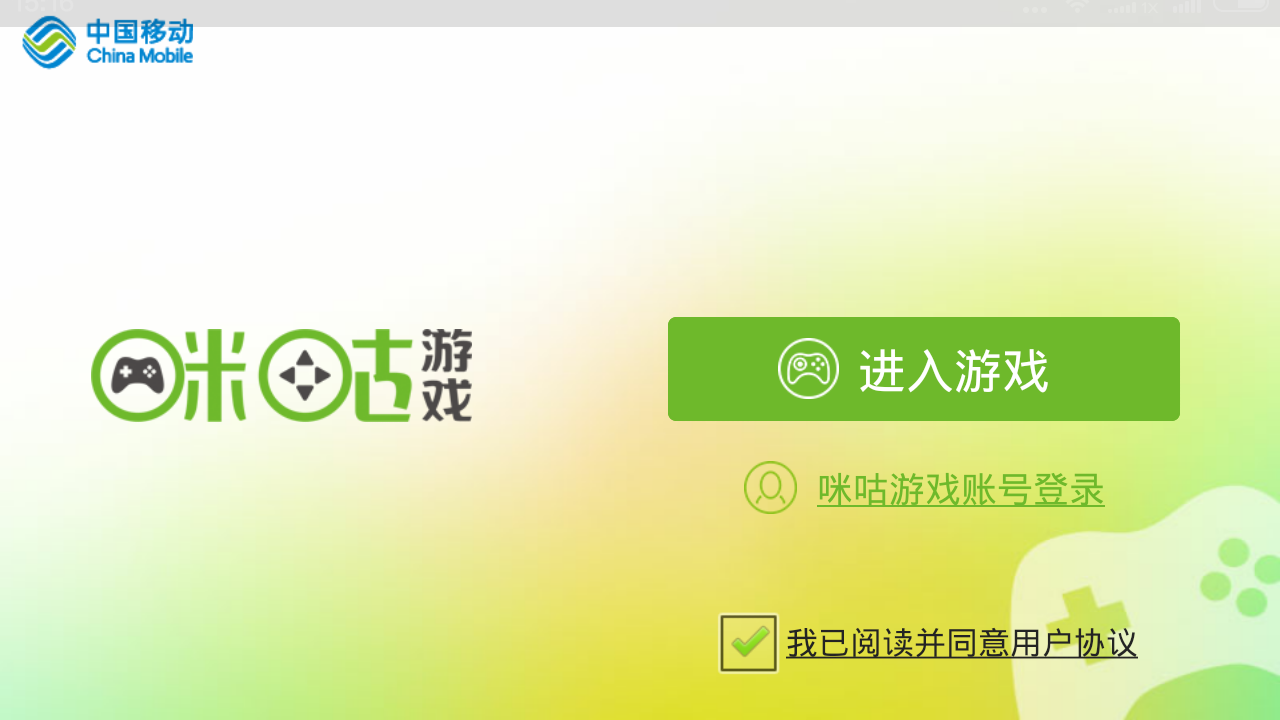checkbox: (716, 604, 1148, 683)
